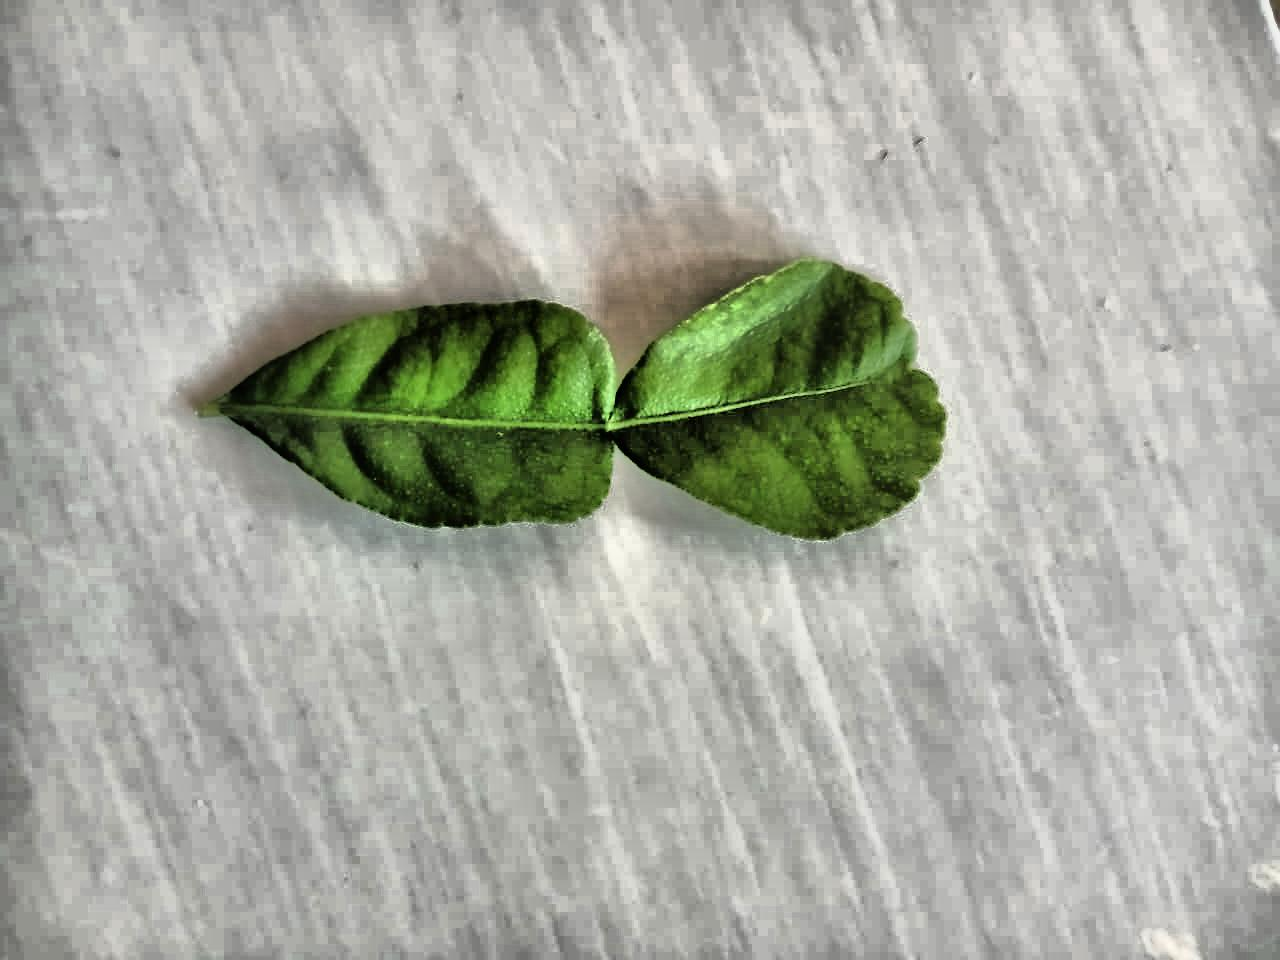daun jeruk: (198, 260, 946, 538)
